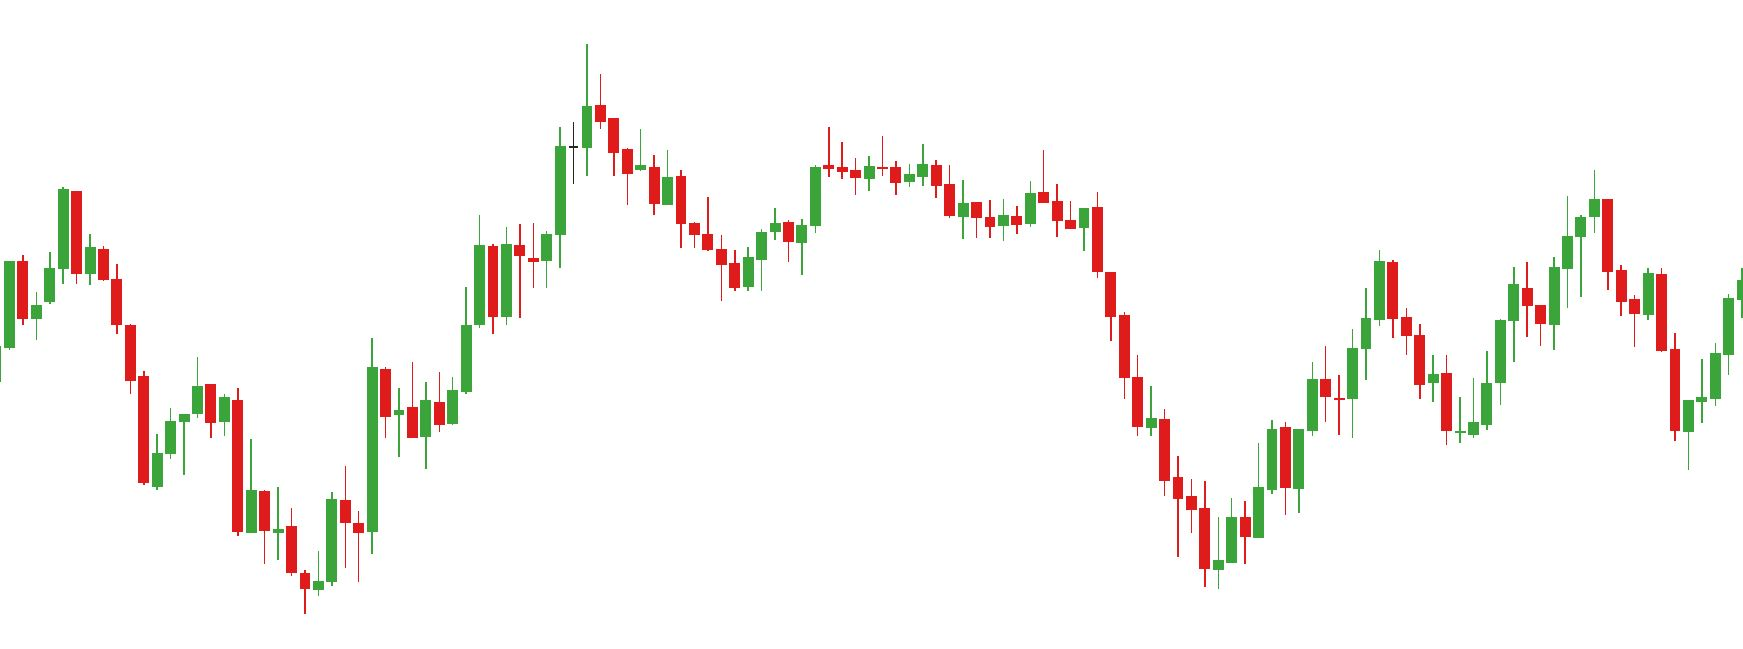buy: (1457, 291, 1696, 471)
sell: (943, 153, 1049, 222)
